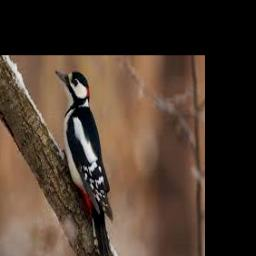Woodpecker: (54, 69, 113, 256)
